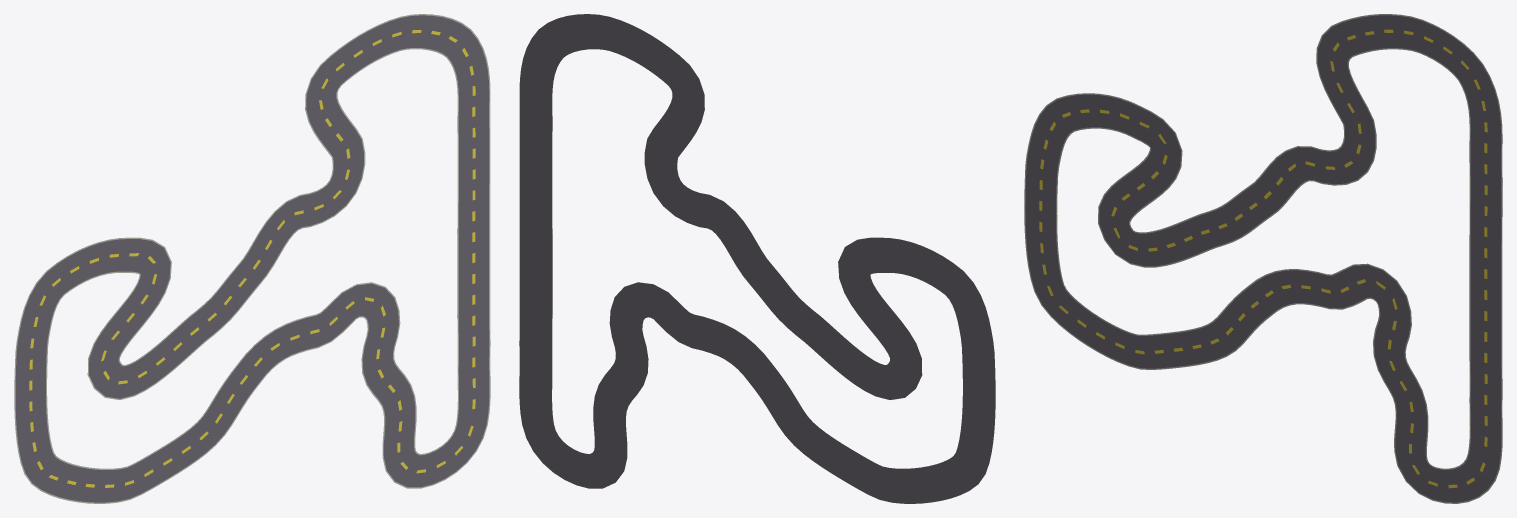
File: track.obj
3 renders of one model, left to right at view 1: azimuth 30°, elevation 25°; view 2: azimuth 150°, elevation 25°; view 3: azimuth 330°, elevation 25°, orthographic.
Size of the model in its own units: 15.52 by 14.85 by 0.002.
